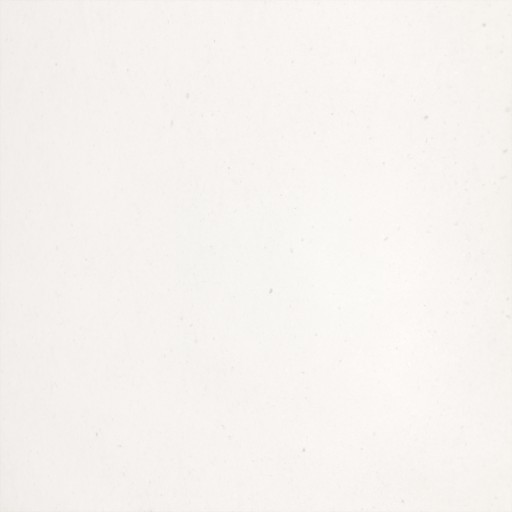lego: (231, 223, 278, 293)
